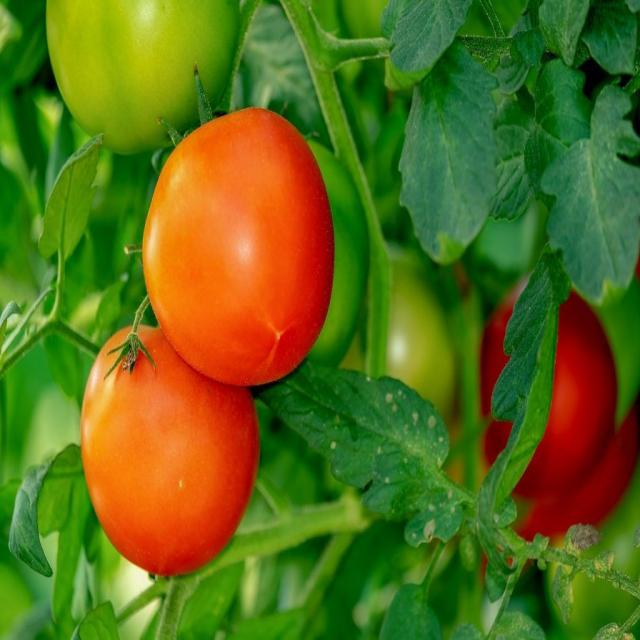level 2: (223, 133, 368, 365), (50, 0, 242, 160), (316, 253, 460, 457)
level 5: (144, 107, 333, 396), (81, 313, 254, 574)
level 6: (484, 287, 616, 498)
